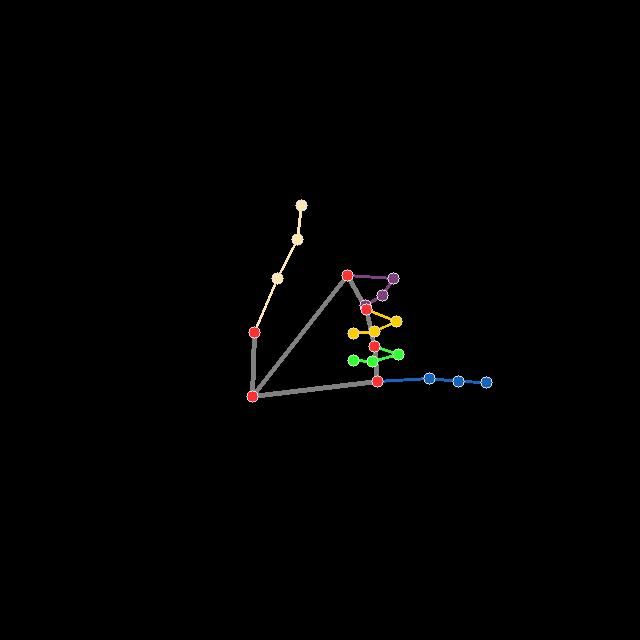skr: (244, 197, 493, 403)
